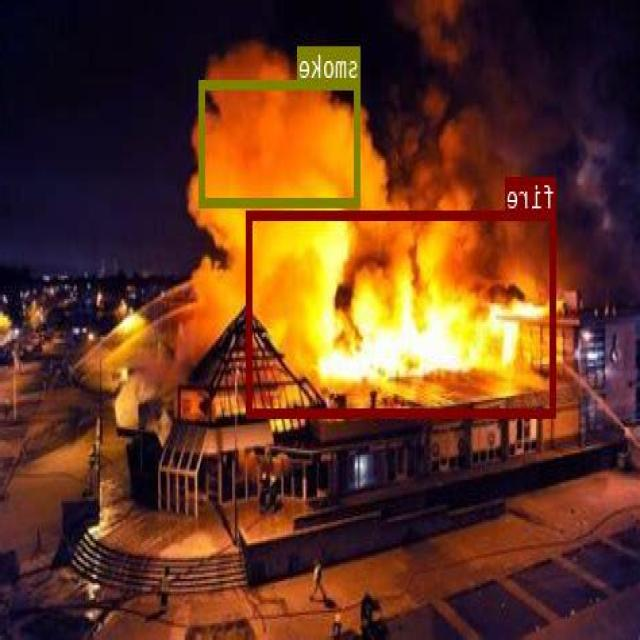fire: (248, 208, 558, 416)
smoke: (200, 79, 361, 206)
